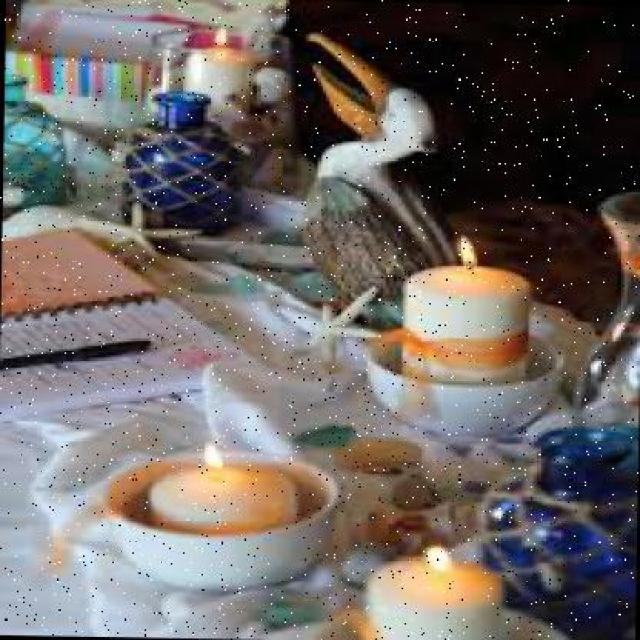fire: (432, 224, 492, 276), (409, 542, 466, 580), (194, 434, 240, 478)
